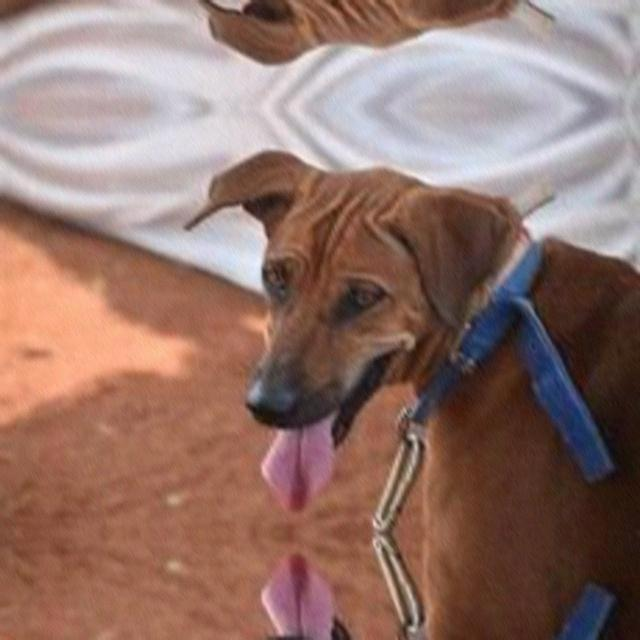dog: (140, 152, 548, 518), (140, 548, 548, 640), (140, 0, 548, 62)
